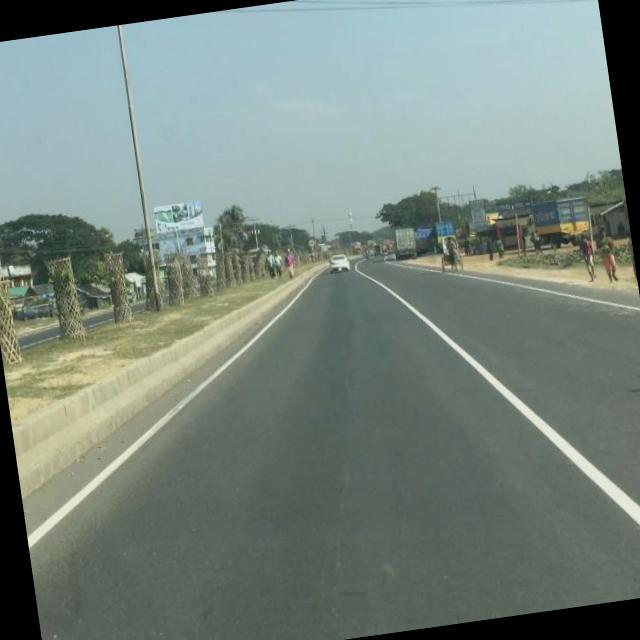car: (329, 251, 354, 273)
motorcycle: (437, 232, 468, 275)
truck: (524, 191, 595, 251), (392, 226, 419, 262), (417, 224, 437, 252), (434, 218, 455, 235)
